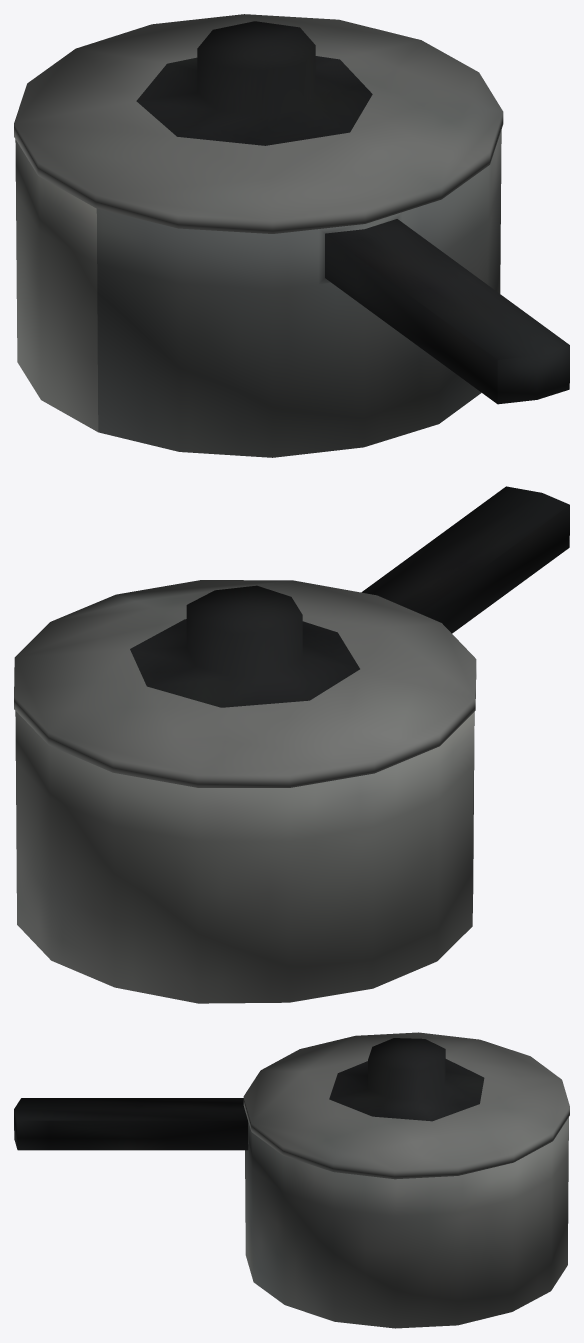
File: SM_EC_Pan_2.fbx
The picture shows the model from 3 angles, top to bottom: view 1: azimuth 30°, elevation 25°; view 2: azimuth 150°, elevation 25°; view 3: azimuth 270°, elevation 25°; orthographic projection. The views are drawn at different scales.
Visible parts, largest first — view 1: SM_EC_Pan_2, SM_EC_Pan_Lid_2; view 2: SM_EC_Pan_2, SM_EC_Pan_Lid_2; view 3: SM_EC_Pan_2, SM_EC_Pan_Lid_2.
Boxes of the visible parts, bbox=[...] form: SM_EC_Pan_2: bbox=[15, 130, 569, 457]; SM_EC_Pan_Lid_2: bbox=[14, 14, 503, 233]; SM_EC_Pan_2: bbox=[15, 486, 569, 1003]; SM_EC_Pan_Lid_2: bbox=[14, 580, 476, 787]; SM_EC_Pan_2: bbox=[14, 1098, 568, 1328]; SM_EC_Pan_Lid_2: bbox=[243, 1032, 569, 1179].
Bounding box in the file's own units: 0.2498 × 0.4255 × 0.1762.
